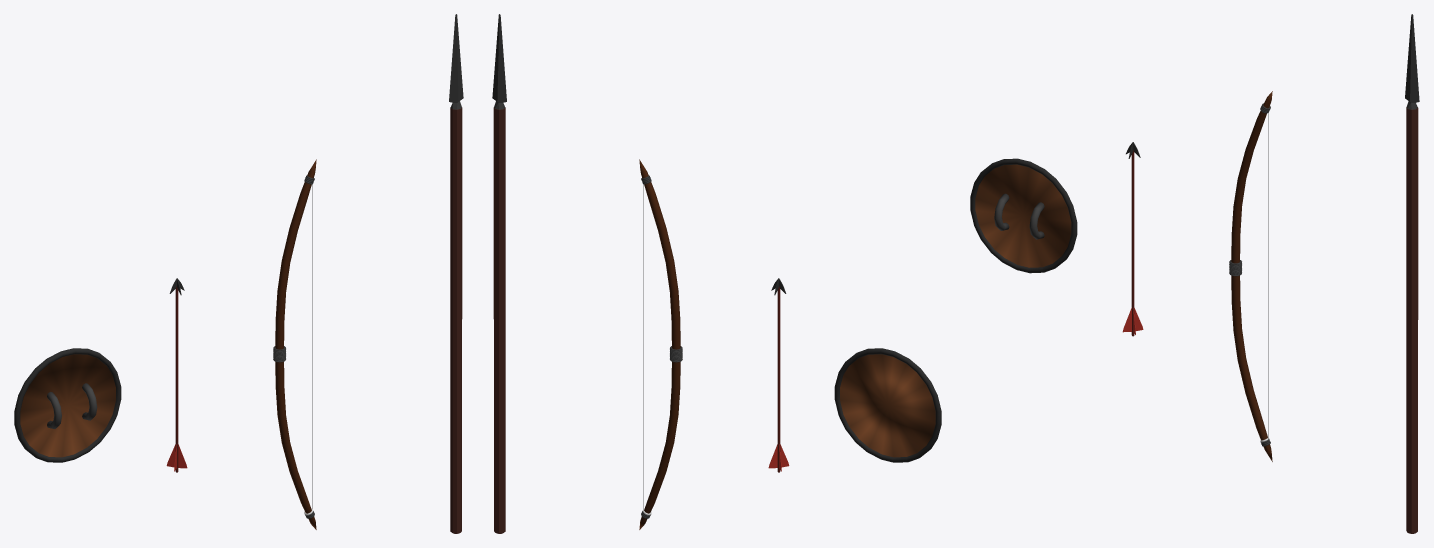
The model's file is WeaponsUnified.fbx.
3 views of the same model, side by side, from view 1: azimuth 30°, elevation 25°; view 2: azimuth 150°, elevation 25°; view 3: azimuth 330°, elevation 25° (orthographic).
Parts seen in each view (by area): view 1: Circle.002, Cube.007, Cube.005, Cube.006; view 2: Circle.002, Cube.007, Cube.005, Cube.006; view 3: Circle.002, Cube.007, Cube.005, Cube.006.
Part boxes in pixels (<box>): Circle.002: <box>14,348,121,462</box>; Cube.007: <box>449,14,463,533</box>; Cube.005: <box>273,159,316,529</box>; Cube.006: <box>166,278,187,472</box>; Circle.002: <box>834,348,941,462</box>; Cube.007: <box>492,14,506,533</box>; Cube.005: <box>639,159,682,529</box>; Cube.006: <box>768,278,789,472</box>; Circle.002: <box>970,158,1077,273</box>; Cube.007: <box>1405,14,1419,533</box>; Cube.005: <box>1229,91,1272,461</box>; Cube.006: <box>1122,142,1143,336</box>.
Bounding box in the file's own units: 192 × 212 × 10.58.
